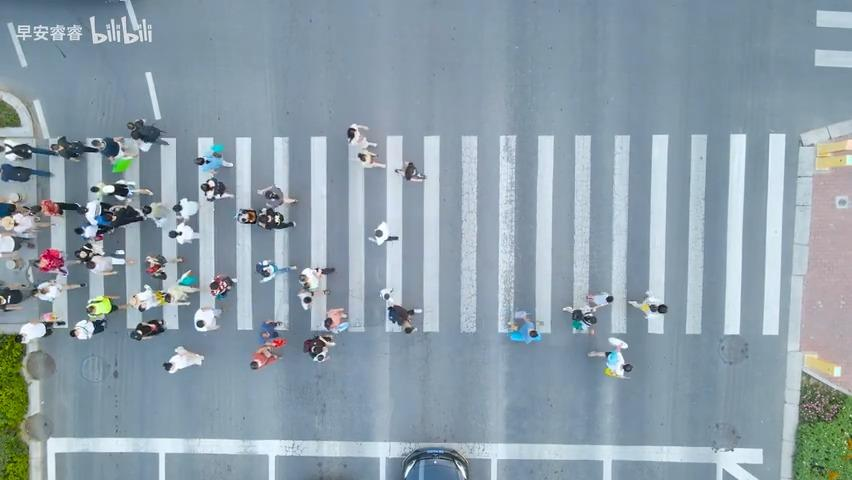Civilian: (562, 291, 613, 334), (378, 287, 422, 334), (587, 336, 633, 379), (346, 122, 386, 168), (85, 198, 141, 227), (32, 277, 87, 305), (14, 317, 62, 348), (66, 222, 133, 244), (1, 139, 58, 163), (103, 179, 159, 203), (2, 163, 60, 186), (27, 248, 82, 272), (1, 212, 52, 237), (190, 176, 241, 200), (162, 345, 204, 374), (27, 197, 82, 219), (126, 117, 169, 145), (193, 143, 233, 173), (627, 290, 668, 319), (68, 314, 112, 341), (249, 337, 286, 369), (50, 135, 92, 163), (80, 251, 131, 274), (160, 223, 205, 249), (506, 310, 541, 343), (297, 266, 334, 296), (81, 292, 127, 316), (91, 136, 132, 162), (257, 208, 294, 236), (562, 305, 597, 334), (256, 184, 298, 207), (142, 201, 179, 227), (255, 259, 296, 282), (302, 334, 335, 362), (173, 196, 204, 222), (0, 288, 35, 310), (193, 305, 222, 331), (367, 221, 398, 245), (209, 273, 237, 299), (323, 307, 348, 333), (394, 161, 426, 181), (236, 208, 260, 228)
